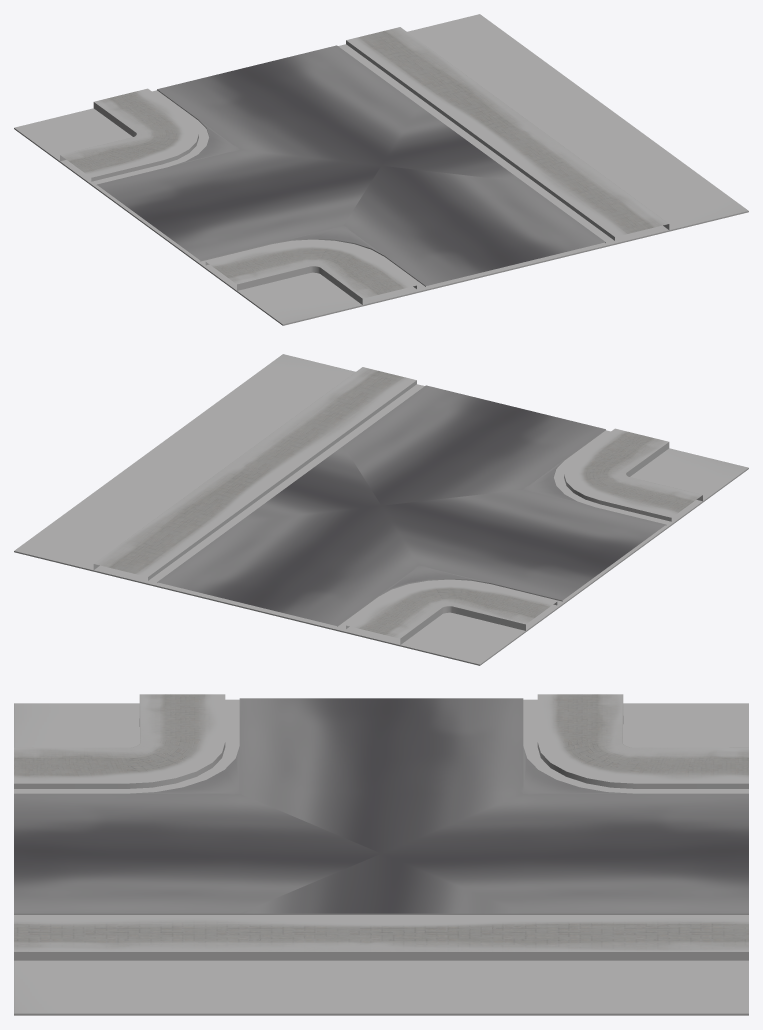
The model's file is Half_Intersection_Curved.fbx.
3 views of the same model, one above another, from view 1: azimuth 30°, elevation 25°; view 2: azimuth 150°, elevation 25°; view 3: azimuth 270°, elevation 25° (orthographic). The views are drawn at different scales.
Parts seen in each view (by area): view 1: Road_10X34, Road_10X62; view 2: Road_10X34, Road_10X62; view 3: Road_10X34, Road_10X62.
Part boxes in pixels (x1=…): Road_10X34: x1=60, y1=27, x2=669, y2=304; Road_10X62: x1=14, y1=14, x2=748, y2=325; Road_10X34: x1=93, y1=367, x2=702, y2=644; Road_10X62: x1=14, y1=354, x2=748, y2=665; Road_10X34: x1=14, y1=694, x2=748, y2=960; Road_10X62: x1=14, y1=703, x2=748, y2=1015.
Size of the model in its own units: 10 by 0.1599 by 10.
